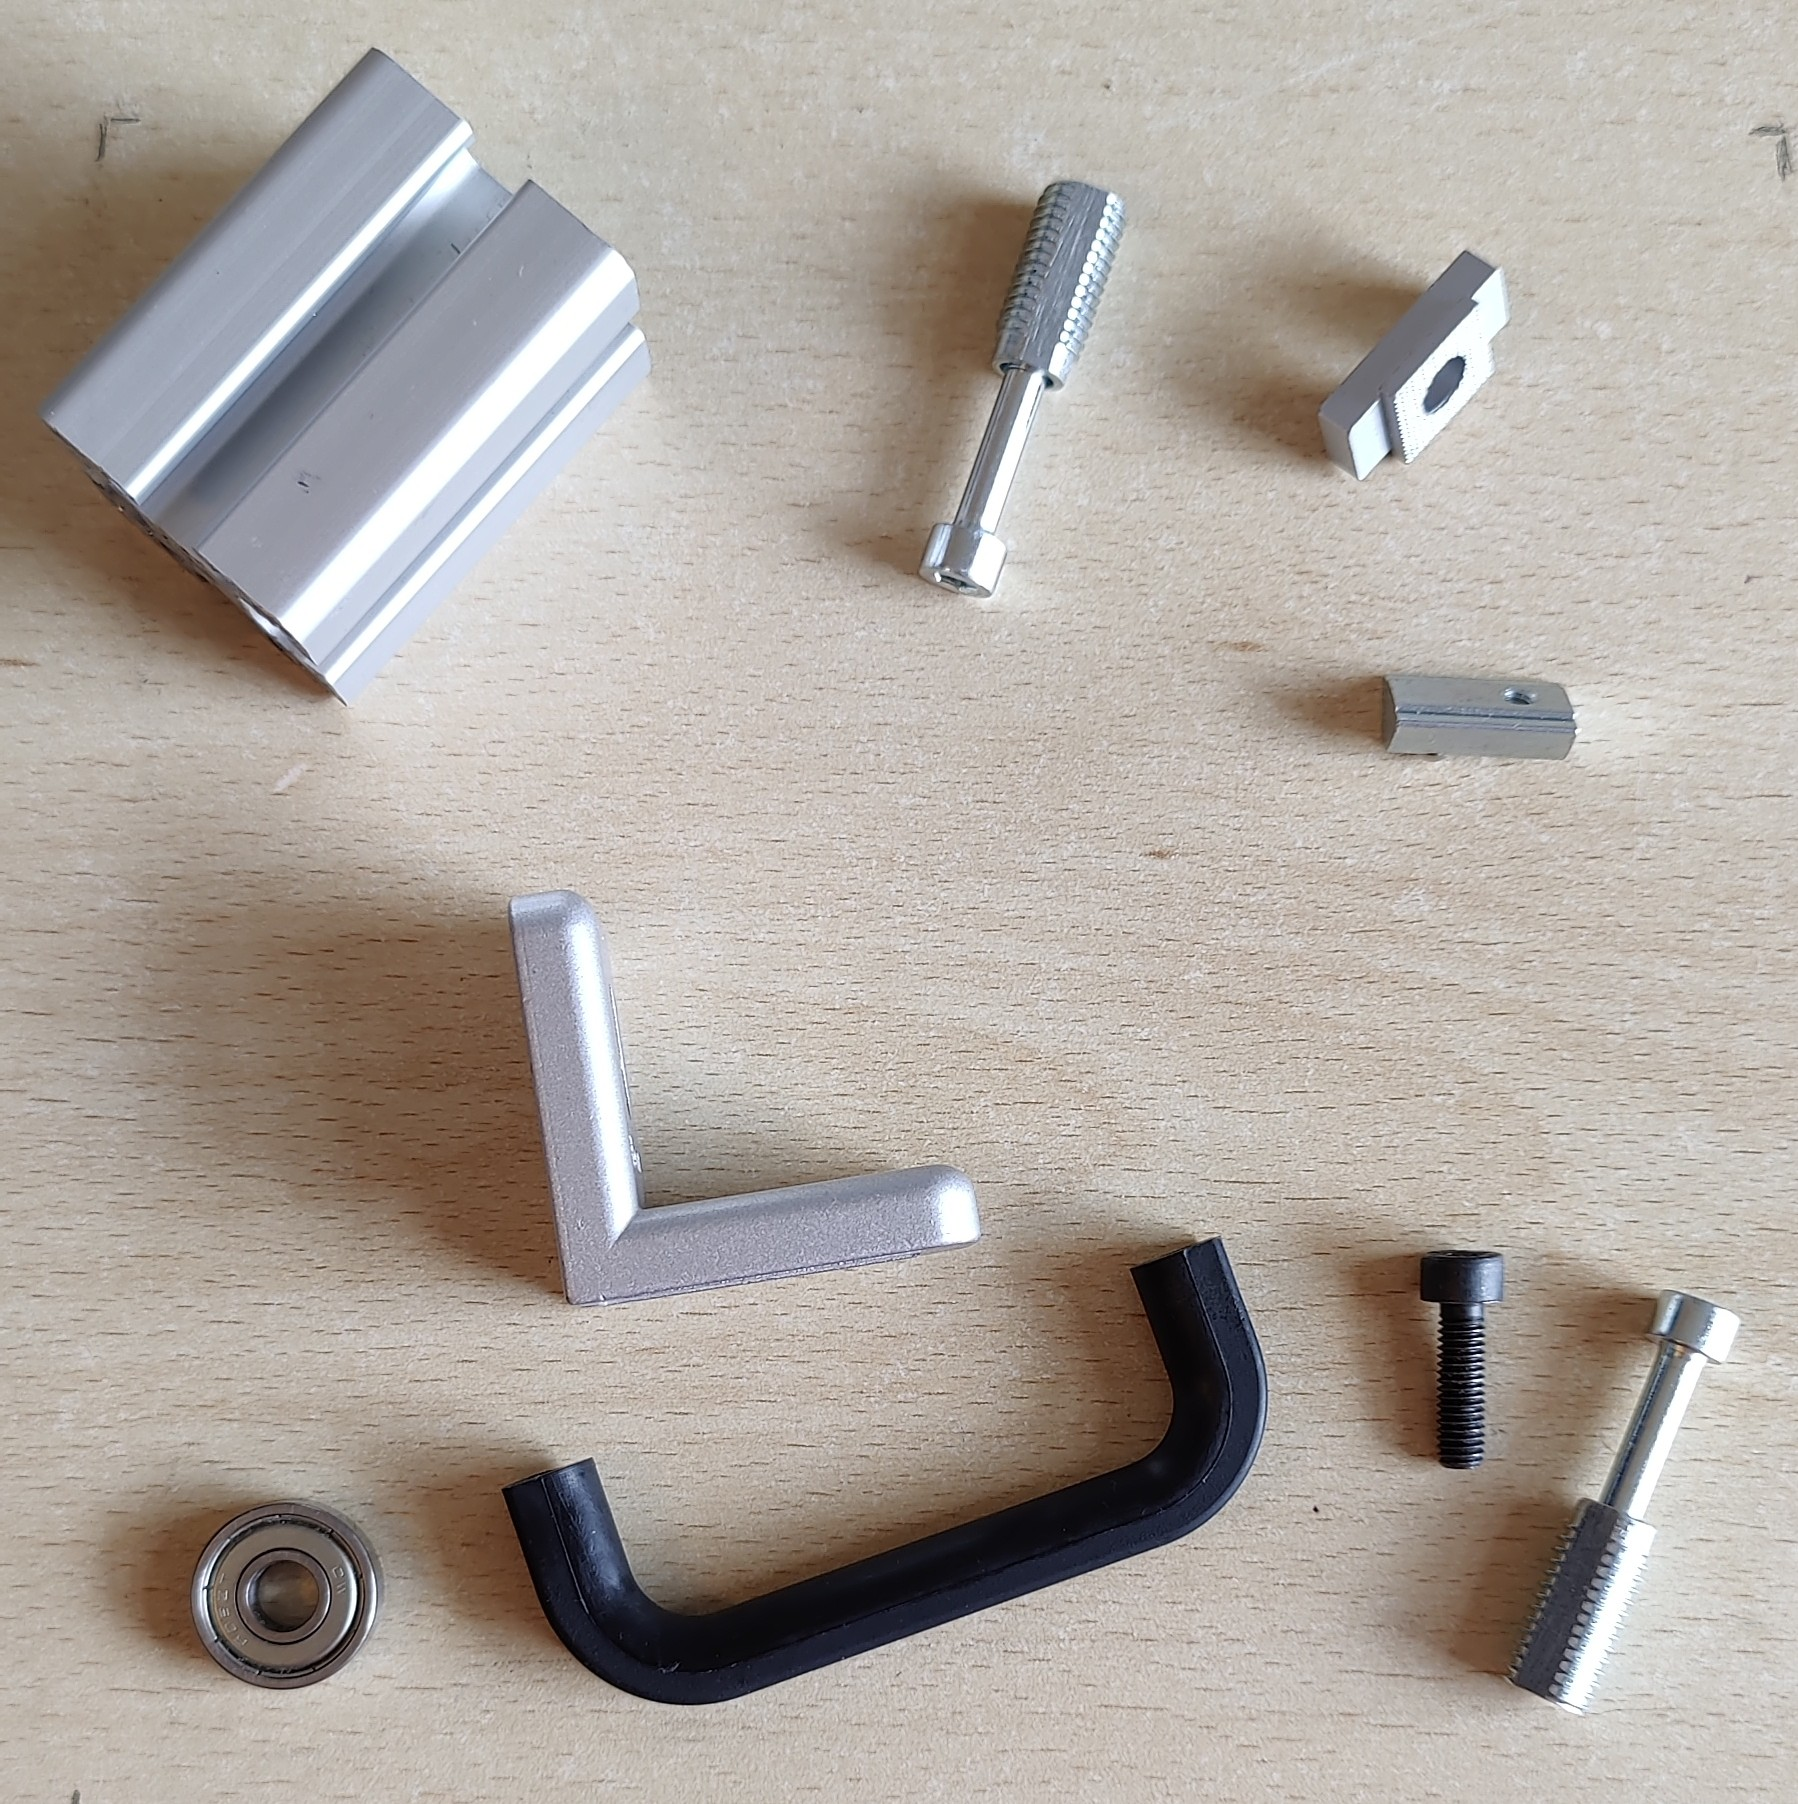Aluminium Extension: (35, 41, 655, 714)
Ball Bearing: (188, 1496, 385, 1694)
Multiwinkel: (505, 887, 985, 1310)
Pull Handle: (501, 1236, 1273, 1710)
Shoulder Socket Head Cap Screw: (1498, 1286, 1744, 1723), (914, 178, 1130, 601)
Socket Head Cap Screw: (1414, 1244, 1508, 1475)
T Nut Square: (1314, 240, 1513, 486)
T Spring Nut: (1376, 668, 1581, 765)
